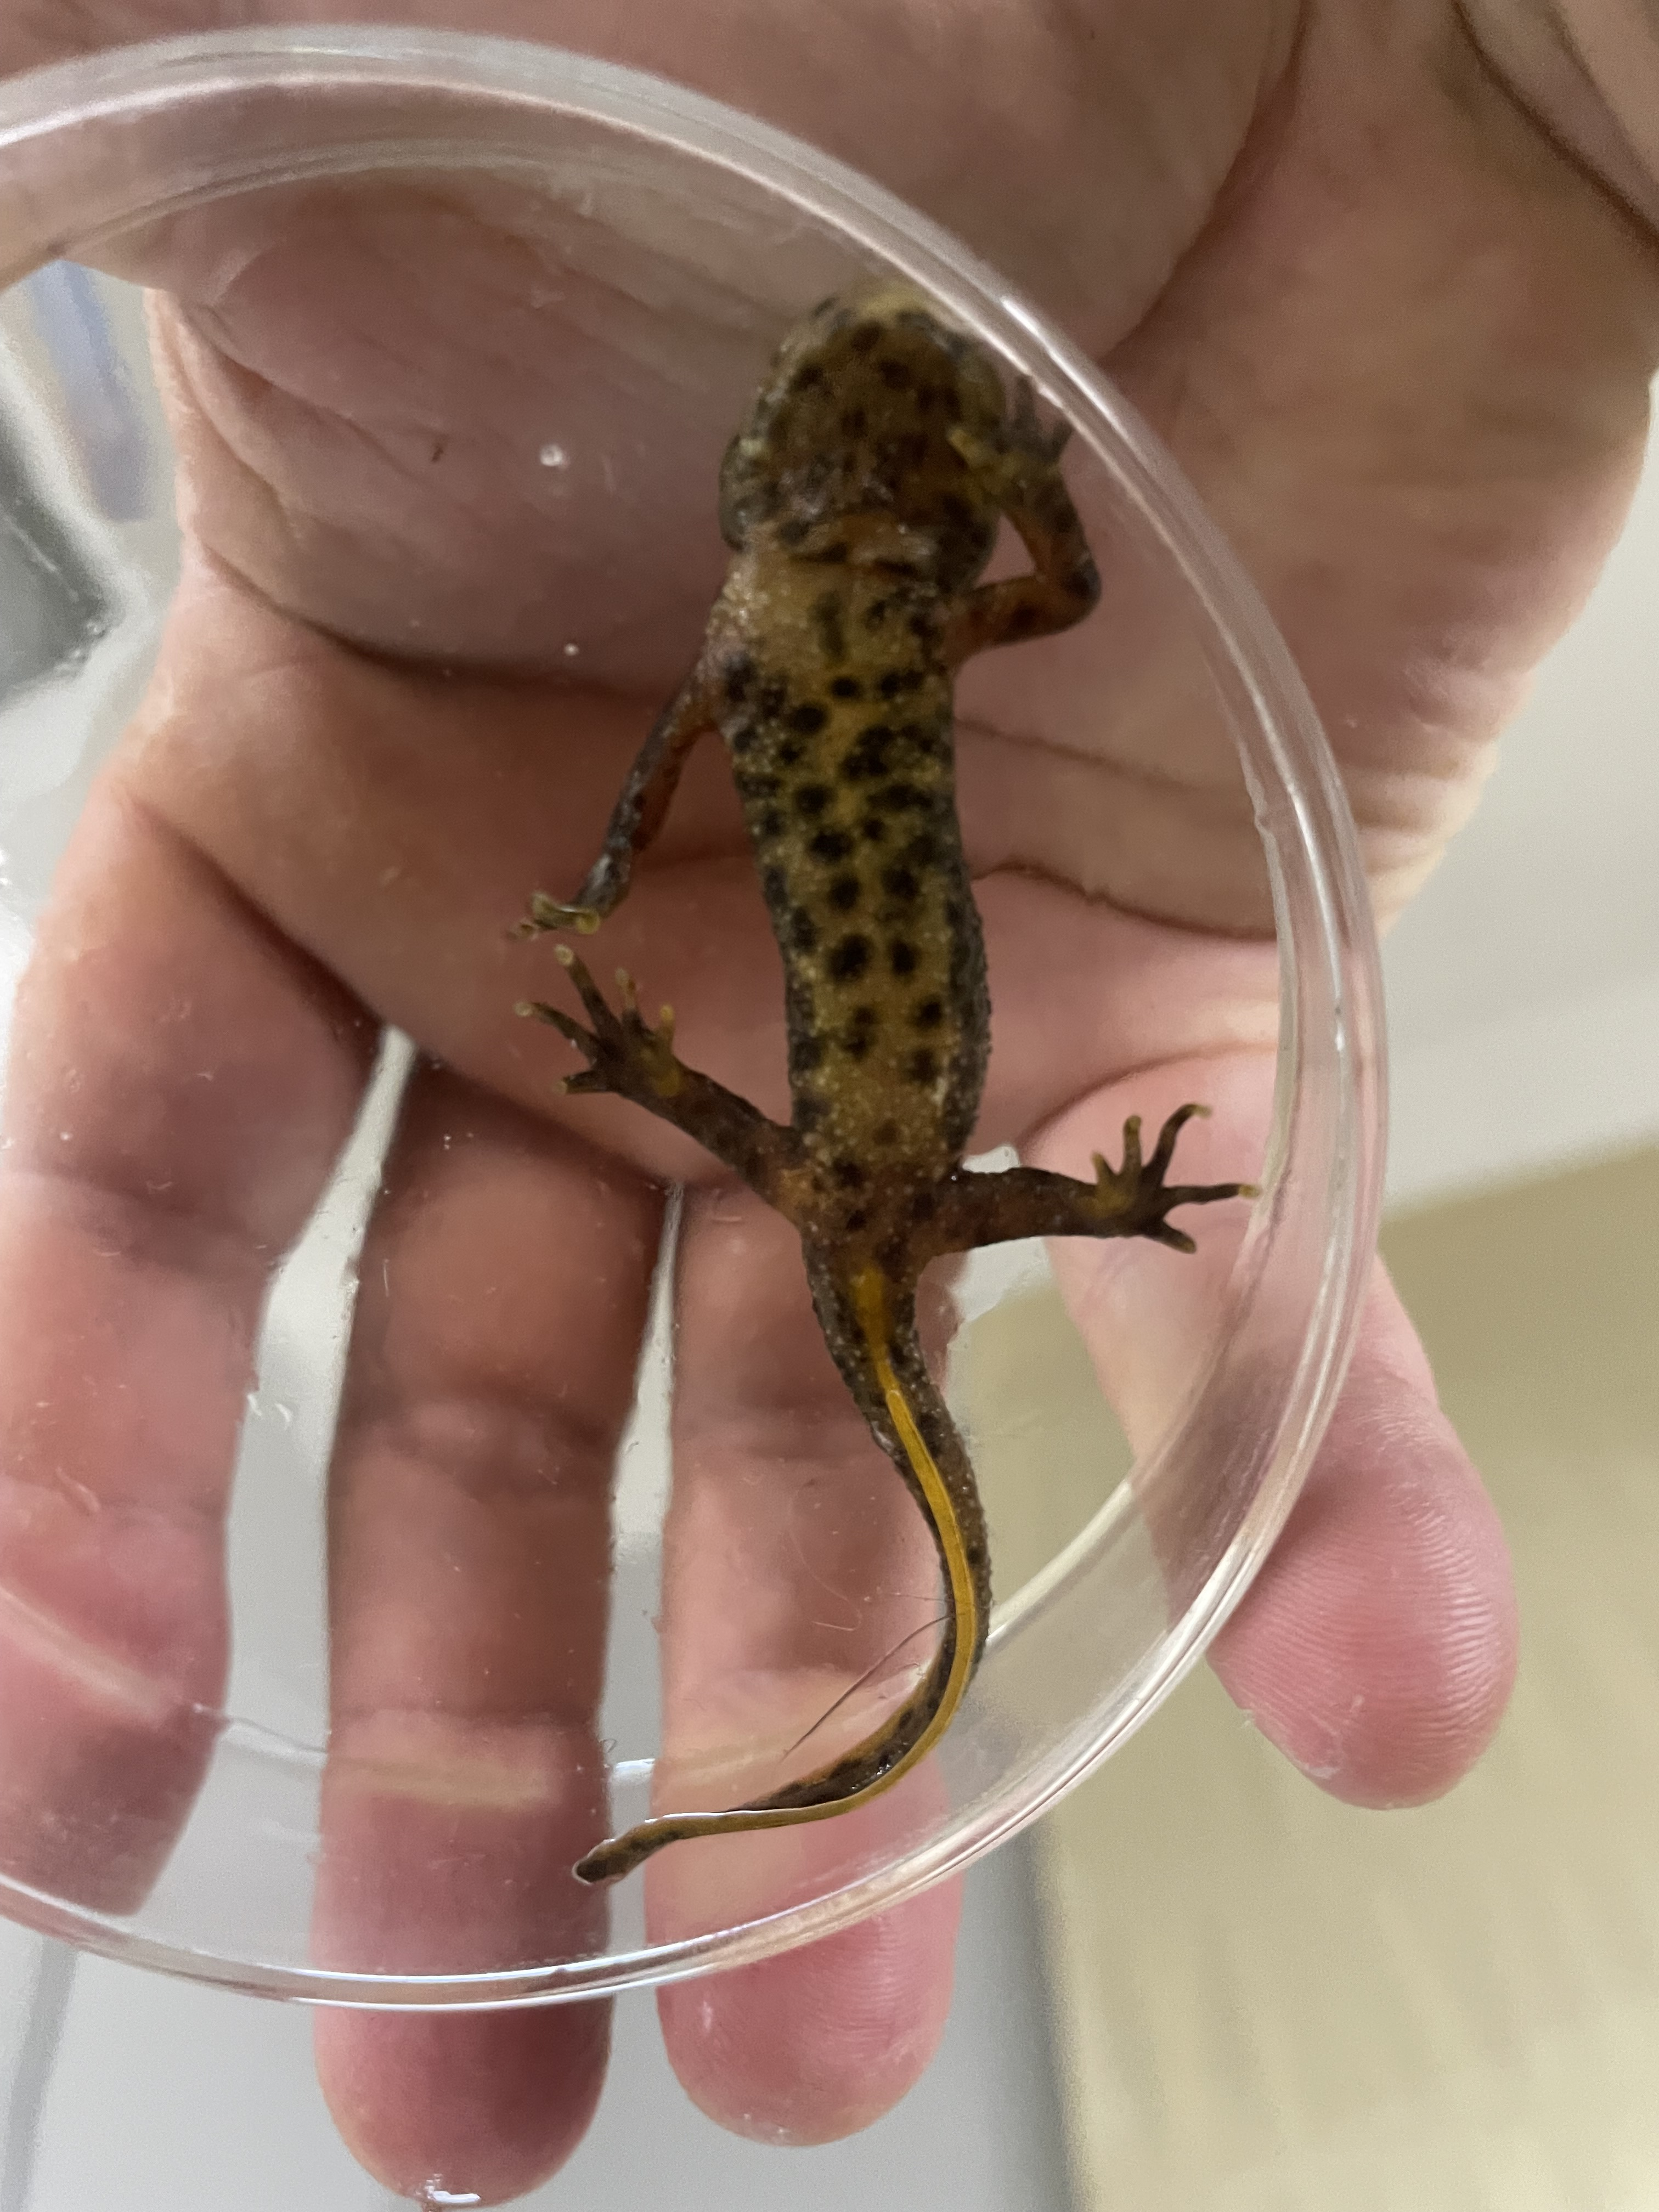newt_ribbed: (718, 662, 990, 1170)
